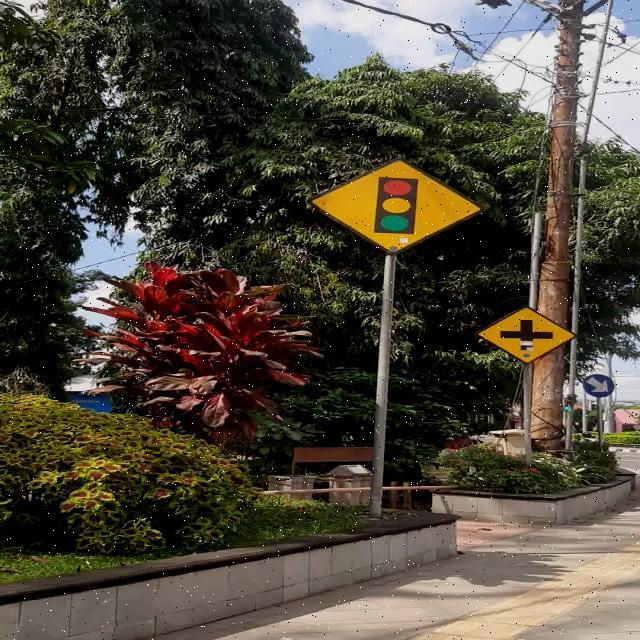Lampu Lalu Lintas: (306, 156, 486, 255)
